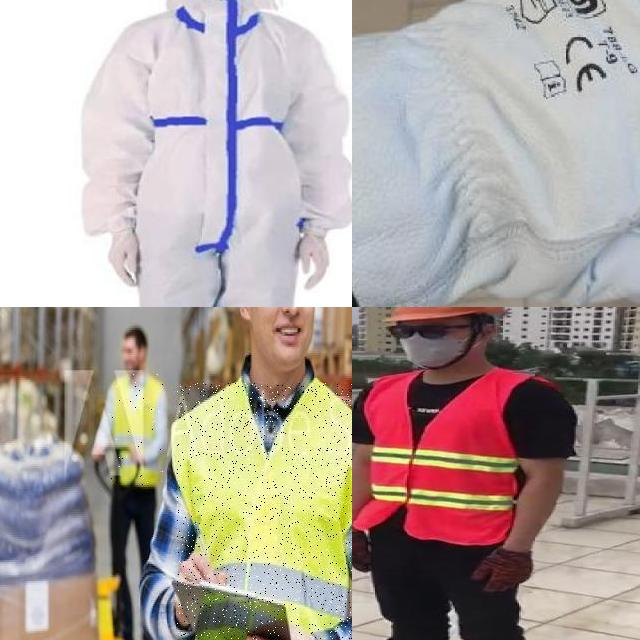GLASS: (386, 324, 478, 340)
GLOVE: (352, 0, 640, 307), (472, 546, 538, 592), (352, 530, 377, 574)
Glove: (290, 236, 340, 286), (112, 227, 144, 284)
HELMET: (388, 307, 503, 324)
VEST: (177, 383, 352, 640), (354, 370, 530, 546), (108, 373, 164, 491)
